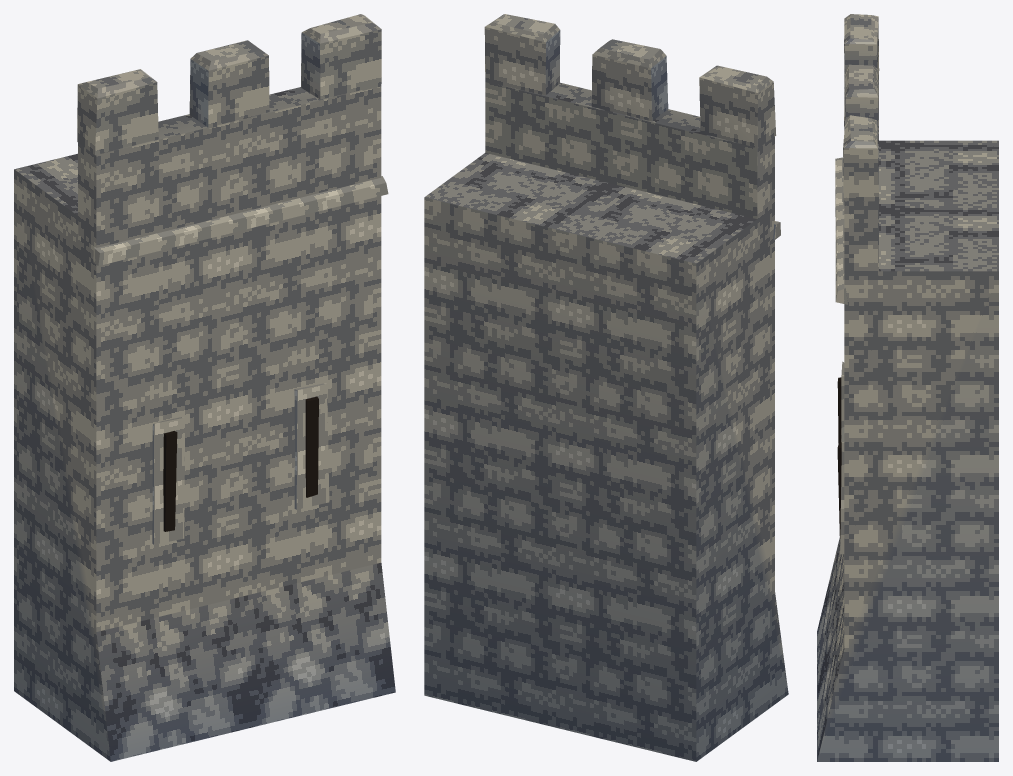
File: cst.curtain__slits.glb
3 renders of one model, left to right at view 1: azimuth 30°, elevation 25°; view 2: azimuth 150°, elevation 25°; view 3: azimuth 270°, elevation 25°, orthographic. The views are drawn at different scales.
Parts seen in each view (by area): view 1: kit_wall, kit_top, kit_detail; view 2: kit_wall, kit_top; view 3: kit_wall, kit_top, kit_detail.
Boxes of the visible parts, x1,y1,x2,y2 form: kit_wall: (14, 86, 395, 761); kit_top: (77, 14, 381, 155); kit_detail: (93, 176, 388, 544); kit_wall: (424, 82, 788, 761); kit_top: (484, 14, 776, 148); kit_wall: (817, 75, 998, 761); kit_top: (843, 14, 879, 201); kit_detail: (835, 157, 847, 554).
Bounding box in the file's own units: 4.07 × 8.85 × 2.35.
Materials: 5 (5 with a texture image).
